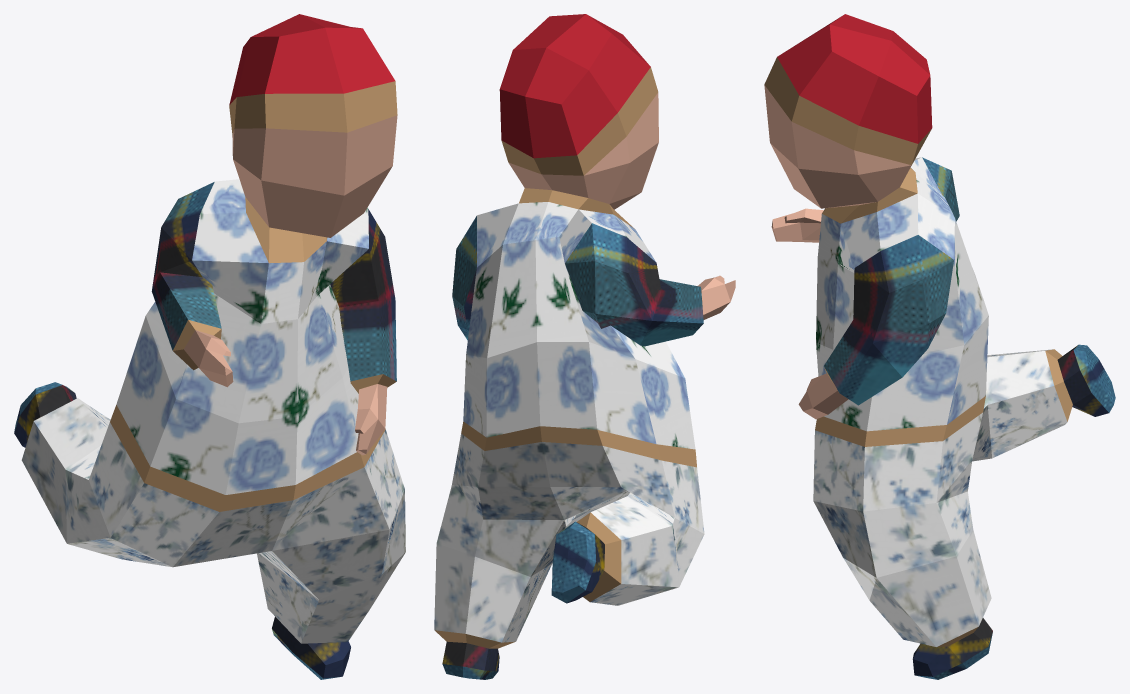
The model's file is SpringBaby.006.glb.
3 views of the same model, side by side, from view 1: azimuth 30°, elevation 25°; view 2: azimuth 150°, elevation 25°; view 3: azimuth 270°, elevation 25° (orthographic). The views are drawn at different scales.
Visible parts, largest first — view 1: SpringBaby.006; view 2: SpringBaby.006; view 3: SpringBaby.006.
Part boxes in pixels (x1=…): SpringBaby.006: x1=14, y1=14, x2=405, y2=679; SpringBaby.006: x1=434, y1=14, x2=735, y2=679; SpringBaby.006: x1=764, y1=14, x2=1115, y2=679.
Size of the model in its own units: 0.248 by 0.5806 by 0.2952.
1 material, 1 textured.
